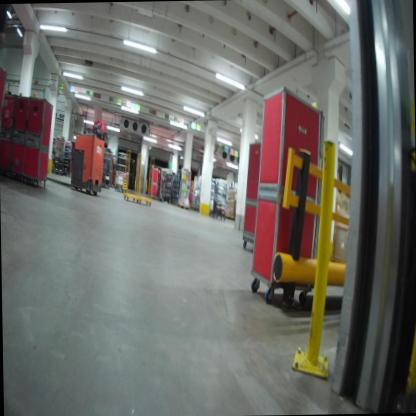pallet_truck: (42, 129, 109, 201)
